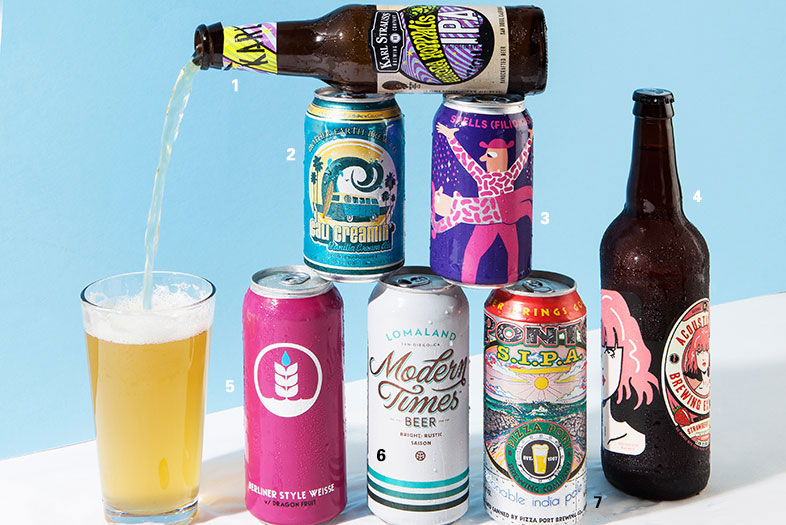beer can: (482, 271, 588, 525), (244, 267, 346, 524), (368, 269, 469, 525), (428, 93, 536, 289), (305, 86, 400, 285)
